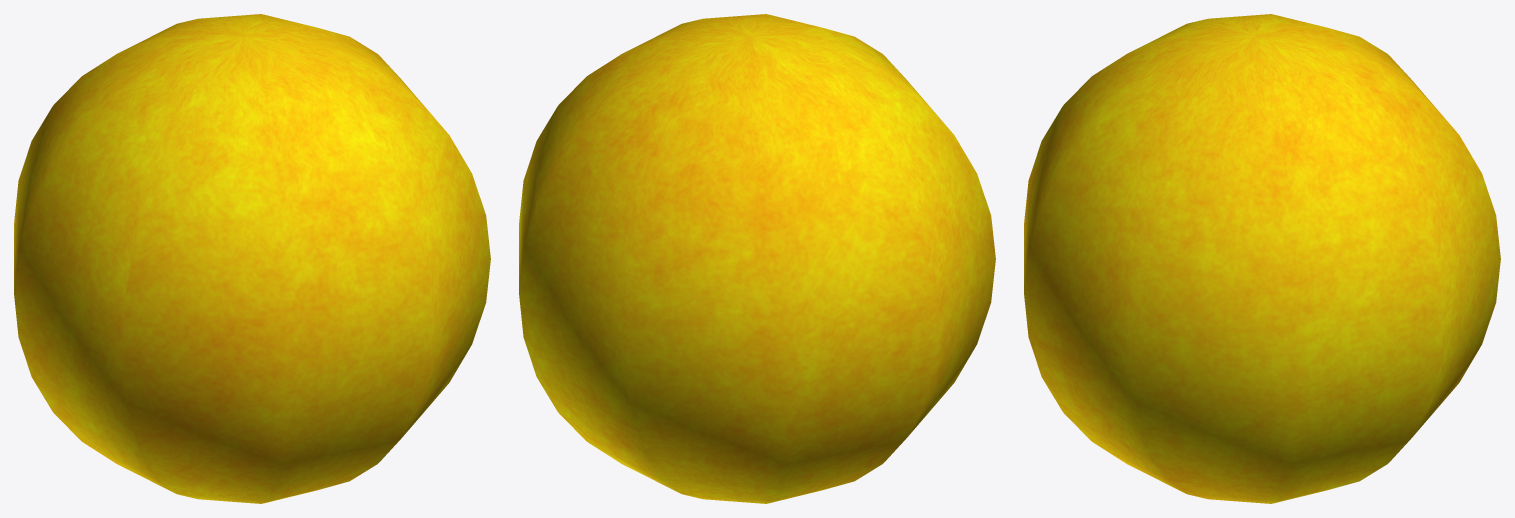
The model's file is enemyBullet.obj.
3 renders of one model, left to right at view 1: azimuth 30°, elevation 25°; view 2: azimuth 150°, elevation 25°; view 3: azimuth 270°, elevation 25°, orthographic.
Visible parts, largest first — view 1: 球.001; view 2: 球.001; view 3: 球.001.
Part boxes in pixels (x1=…): 球.001: x1=14, y1=14, x2=490, y2=503; 球.001: x1=519, y1=14, x2=995, y2=503; 球.001: x1=1024, y1=14, x2=1500, y2=503.
Bounding box in the file's own units: 1.97 × 2 × 1.94.
1 material, 1 textured.
